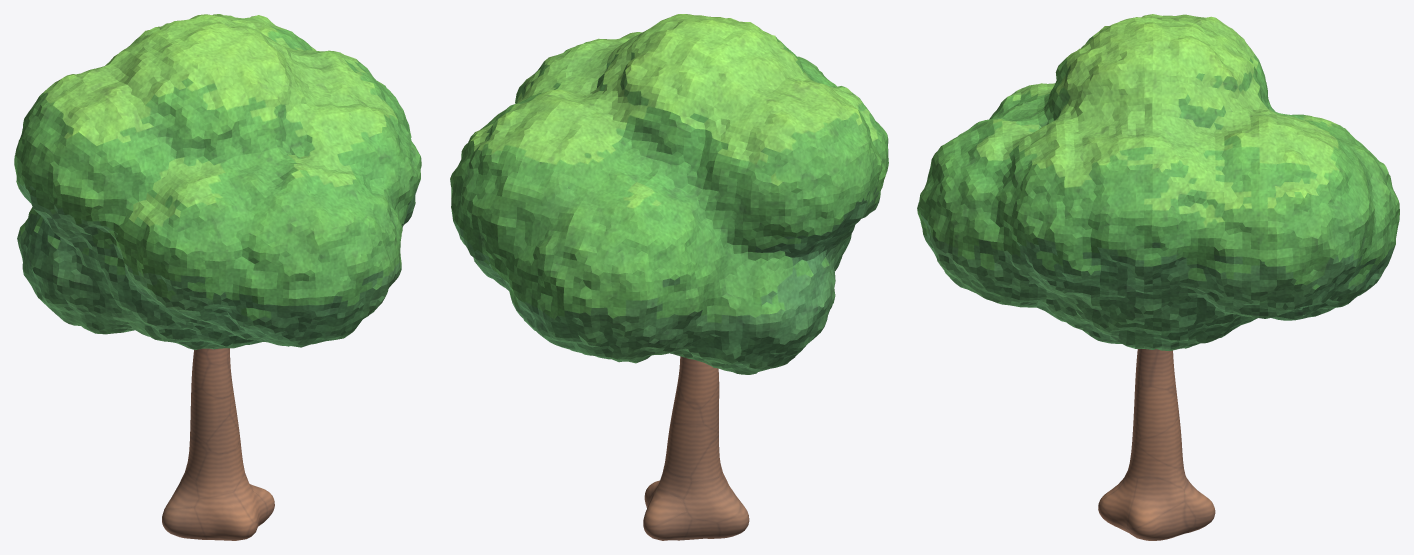
File: WM_TreeRound_C.fbx
The picture shows the model from 3 angles, left to right: view 1: azimuth 30°, elevation 25°; view 2: azimuth 150°, elevation 25°; view 3: azimuth 270°, elevation 25°; orthographic projection. The views are drawn at different scales.
Visible parts, largest first — view 1: WM_TreeRound_C_LOD0; view 2: WM_TreeRound_C_LOD0; view 3: WM_TreeRound_C_LOD0.
Part boxes in pixels (x1,y1,x2,y2): WM_TreeRound_C_LOD0: (14,14,421,540); WM_TreeRound_C_LOD0: (450,14,888,540); WM_TreeRound_C_LOD0: (917,14,1399,540).
Size of what is drawn, in the model's own units: 2.88 by 3.92 by 3.48.
